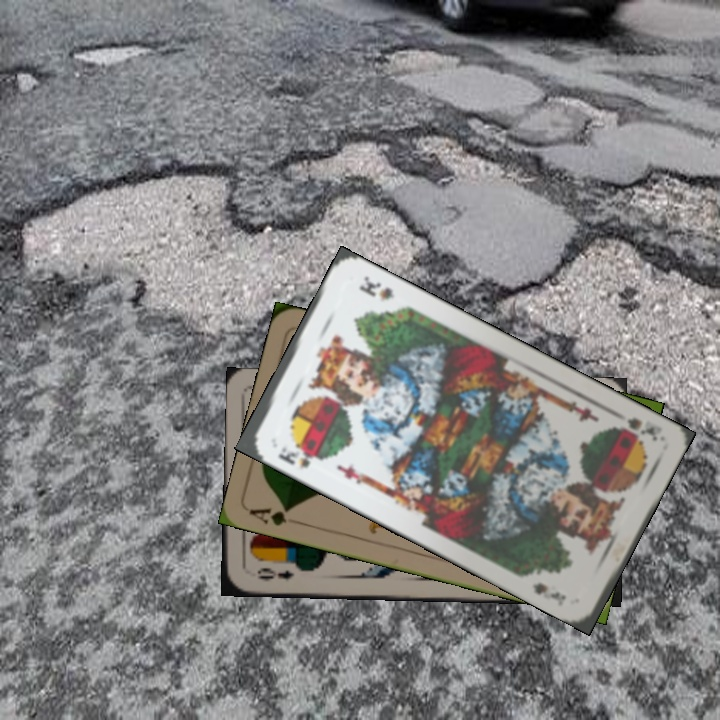EO: (253, 563, 296, 583)
GA: (246, 503, 305, 529)
SK: (609, 413, 660, 444), (274, 441, 323, 471)
